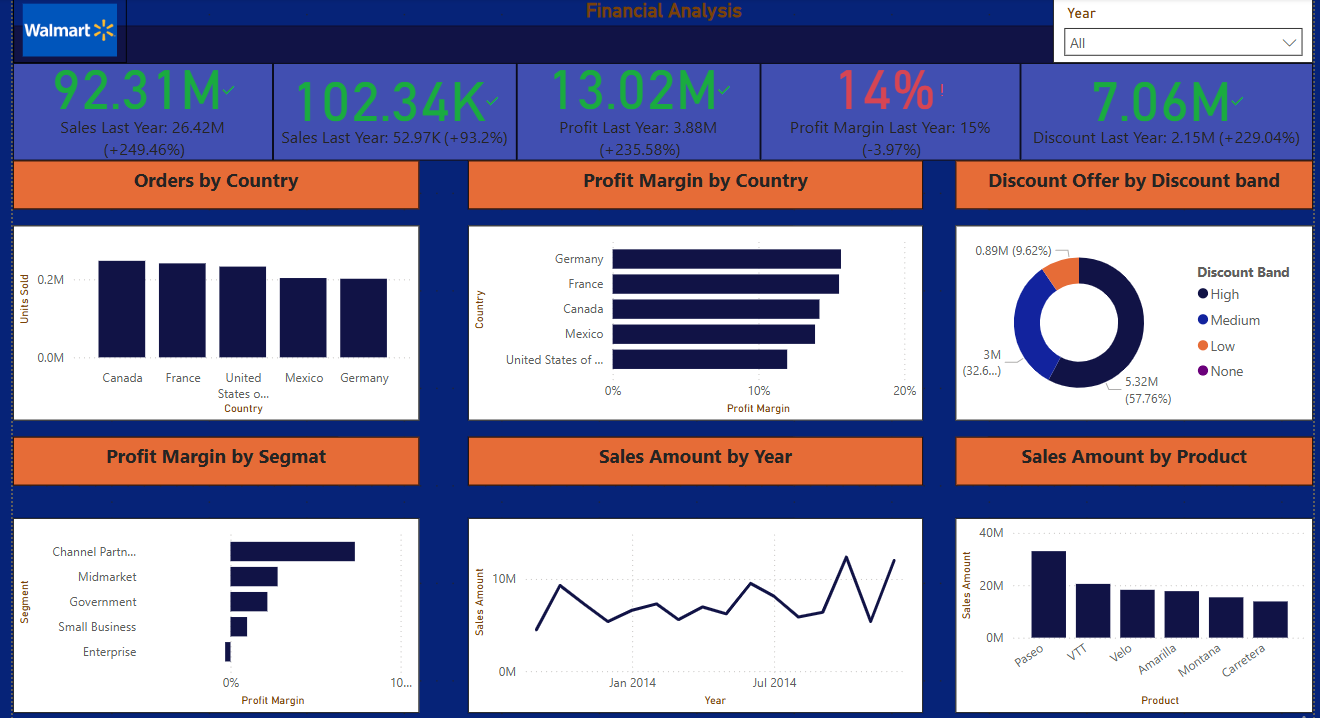

The page's visual inventory and layout, read from the dashboard file:
{"tool":"powerbi","page":{"name":"Page 1","canvas":[1280,720],"ordinal":0},"visuals":[{"type":"shape","title":"Financial Analysis","box":[0,0,1280,160],"z":0},{"type":"kpi","fields":{"Indicator":["Analysis Table.Sales Amount"],"Goal":["Analysis Table.Sales Amount Last Year"],"TrendLine":["DateTable.Year"]},"box":[0,64,256,96],"z":1000},{"type":"kpi","fields":{"TrendLine":["DateTable.Date"],"Goal":["Analysis Table.Units Sold Last Year"],"Indicator":["Analysis Table.Units Sold"]},"box":[256,64,240,96],"z":2000},{"type":"kpi","fields":{"Indicator":["Analysis Table.Profit"],"TrendLine":["DateTable.Year"],"Goal":["Analysis Table.Profit Last Year"]},"box":[496,64,240,96],"z":3000},{"type":"kpi","fields":{"Indicator":["Analysis Table.Profit Margin"],"TrendLine":["DateTable.Year"],"Goal":["Analysis Table.Profit Margin last year"]},"box":[736,64,256,96],"z":4000},{"type":"kpi","fields":{"Indicator":["Analysis Table.Discount"],"TrendLine":["DateTable.Year"],"Goal":["Analysis Table.Discount Last Year"]},"box":[992,64,288,96],"z":5000},{"type":"slicer","fields":{"Values":["DateTable.Year"]},"box":[1024,0,256,64],"z":5001},{"type":"image","box":[0,0,112,64],"z":5002},{"type":"shape","box":[0,160,320,48],"z":5003},{"type":"shape","box":[448,160,320,48],"z":5004},{"type":"shape","box":[960,160,320,48],"z":5005},{"type":"shape","box":[0,224,400,192],"z":5006},{"type":"shape","box":[928,224,352,192],"z":5007},{"type":"shape","box":[448,224,320,192],"z":5008},{"type":"shape","box":[0,432,320,48],"z":5009},{"type":"shape","box":[960,432,320,48],"z":5010},{"type":"shape","box":[448,432,320,48],"z":5011},{"type":"shape","box":[928,512,352,192],"z":5012},{"type":"shape","box":[448,512,320,192],"z":5013},{"type":"shape","box":[0,512,320,192],"z":5014},{"type":"textbox","box":[0,160,400,48],"z":5015},{"type":"textbox","box":[448,160,448,48],"z":5016},{"type":"textbox","box":[0,432,400,48],"z":5017},{"type":"textbox","box":[928,160,352,48],"z":5018},{"type":"textbox","box":[448,432,448,48],"z":5019},{"type":"textbox","box":[928,432,352,48],"z":5020},{"type":"barChart","fields":{"Y":["Analysis Table.Profit Margin"],"Category":["financials.Country"]},"box":[448,224,448,192],"z":5021},{"type":"clusteredBarChart","fields":{"Category":["financials.Segment"],"Y":["Analysis Table.Profit Margin"]},"box":[0,512,400,192],"z":5022},{"type":"lineChart","fields":{"Y":["Analysis Table.Sales Amount"],"Category":["DateTable.Date.Variation.Date Hierarchy.Year","DateTable.Date.Variation.Date Hierarchy.Month"]},"box":[448,512,448,192],"z":5023},{"type":"clusteredColumnChart","fields":{"Y":["Analysis Table.Units Sold"],"Category":["financials.Country"]},"box":[0,224,400,192],"z":5024},{"type":"clusteredColumnChart","fields":{"Y":["Analysis Table.Sales Amount"],"Category":["financials.Product"]},"box":[928,512,352,192],"z":5025},{"type":"donutChart","fields":{"Y":["Analysis Table.Discount"],"Category":["financials.Discount Band"]},"box":[928,224,352,192],"z":5026}]}

Visuals, with their boxes in screenshot pixels (x1, y1, x2, y2):
"Financial Analysis" shape: bbox=[7, 0, 1313, 156]
kpi - Analysis Table.Sales Amount x Analysis Table.Sales Amount Last Year: bbox=[7, 58, 268, 156]
kpi - DateTable.Date x Analysis Table.Units Sold Last Year: bbox=[268, 58, 513, 156]
kpi - Analysis Table.Profit x DateTable.Year: bbox=[513, 58, 758, 156]
kpi - Analysis Table.Profit Margin x DateTable.Year: bbox=[758, 58, 1019, 156]
kpi - Analysis Table.Discount x DateTable.Year: bbox=[1019, 58, 1313, 156]
slicer - DateTable.Year: bbox=[1052, 0, 1313, 58]
image: bbox=[7, 0, 121, 58]
shape: bbox=[7, 156, 333, 205]
shape: bbox=[464, 156, 790, 205]
shape: bbox=[986, 156, 1313, 205]
shape: bbox=[7, 222, 415, 418]
shape: bbox=[954, 222, 1313, 418]
shape: bbox=[464, 222, 790, 418]
shape: bbox=[7, 434, 333, 483]
shape: bbox=[986, 434, 1313, 483]
shape: bbox=[464, 434, 790, 483]
shape: bbox=[954, 515, 1313, 711]
shape: bbox=[464, 515, 790, 711]
shape: bbox=[7, 515, 333, 711]
textbox: bbox=[7, 156, 415, 205]
textbox: bbox=[464, 156, 921, 205]
textbox: bbox=[7, 434, 415, 483]
textbox: bbox=[954, 156, 1313, 205]
textbox: bbox=[464, 434, 921, 483]
textbox: bbox=[954, 434, 1313, 483]
barChart - Analysis Table.Profit Margin x financials.Country: bbox=[464, 222, 921, 418]
clusteredBarChart - financials.Segment x Analysis Table.Profit Margin: bbox=[7, 515, 415, 711]
lineChart - Analysis Table.Sales Amount x DateTable.Date.Variation.Date Hierarchy.Year: bbox=[464, 515, 921, 711]
clusteredColumnChart - Analysis Table.Units Sold x financials.Country: bbox=[7, 222, 415, 418]
clusteredColumnChart - Analysis Table.Sales Amount x financials.Product: bbox=[954, 515, 1313, 711]
donutChart - Analysis Table.Discount x financials.Discount Band: bbox=[954, 222, 1313, 418]
